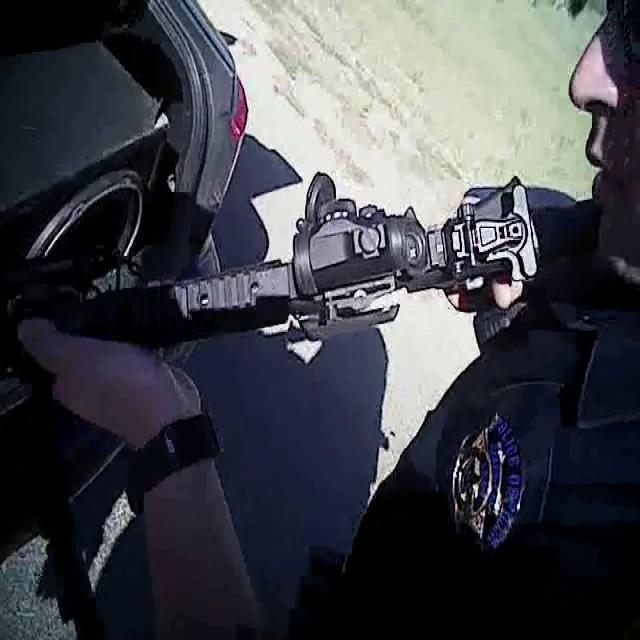gun: (0, 143, 548, 427)
